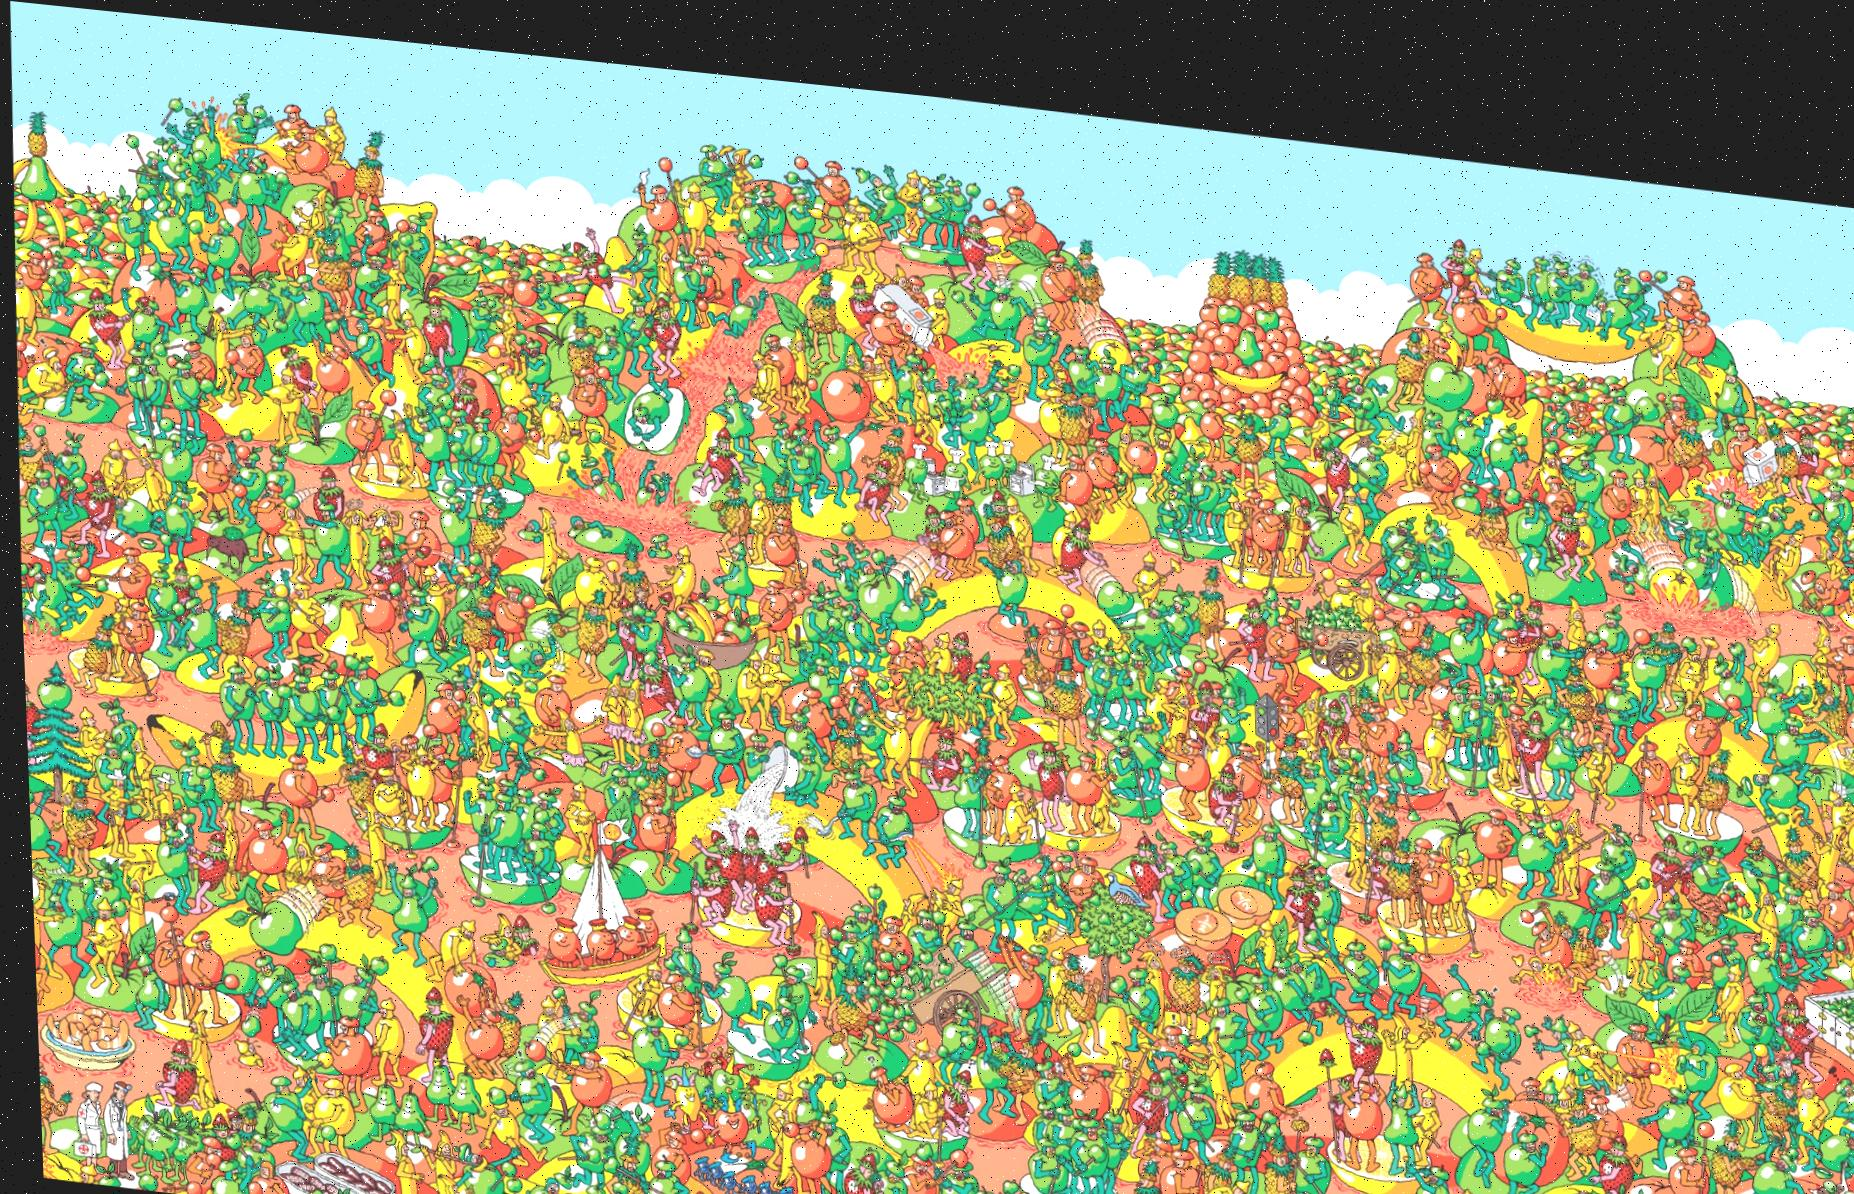waldo: (1768, 1017, 1784, 1036)
